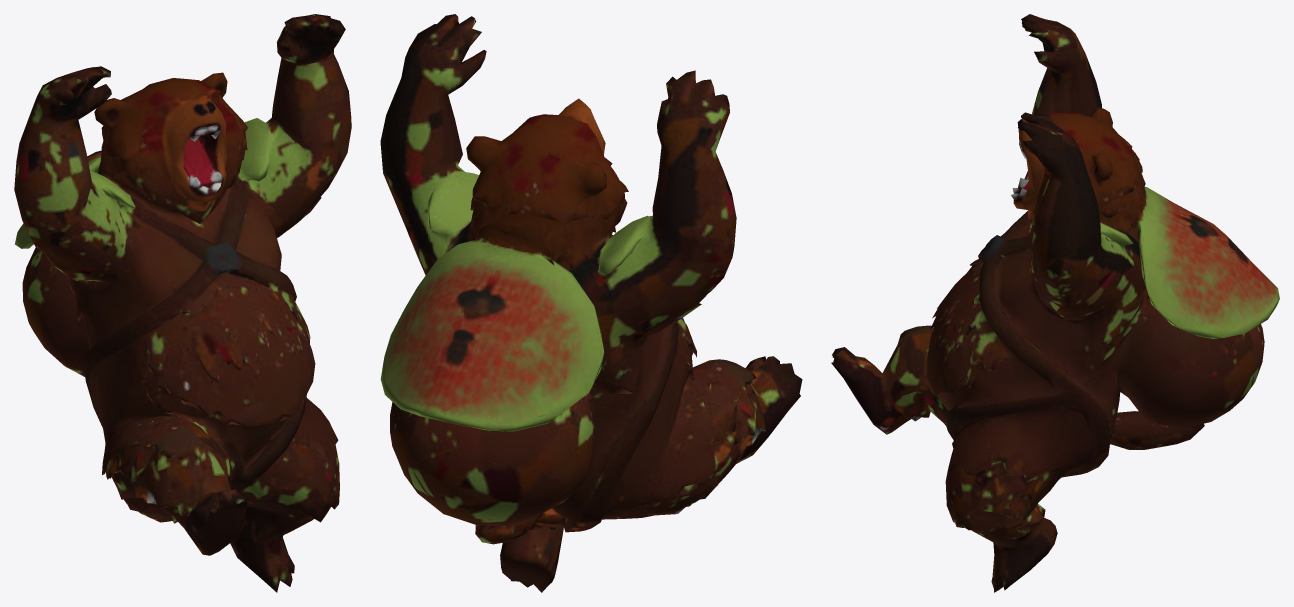
Rendered from war_bear_strike.glb.
3 renders of one model, left to right at view 1: azimuth 30°, elevation 25°; view 2: azimuth 150°, elevation 25°; view 3: azimuth 270°, elevation 25°, orthographic. The views are drawn at different scales.
Visible parts, largest first — view 1: world; view 2: world; view 3: world.
Part boxes in pixels (left/top/right/bottom): world: left=14, top=14, right=351, bottom=592; world: left=380, top=14, right=802, bottom=592; world: left=831, top=14, right=1279, bottom=592.
Size of the model in its own units: 0.6288 by 0.9933 by 0.8118.
Materials: 1 (1 with a texture image).
